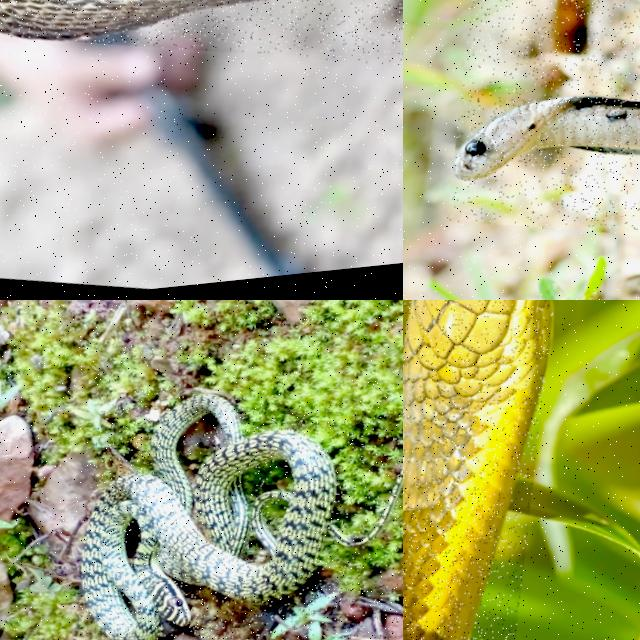Chrysopelea ornata: (82, 394, 392, 639)
Naja kaouthia: (0, 0, 254, 39)
Naja siamensis: (454, 92, 639, 176)
Ophiophagus hannah: (403, 300, 552, 639)
